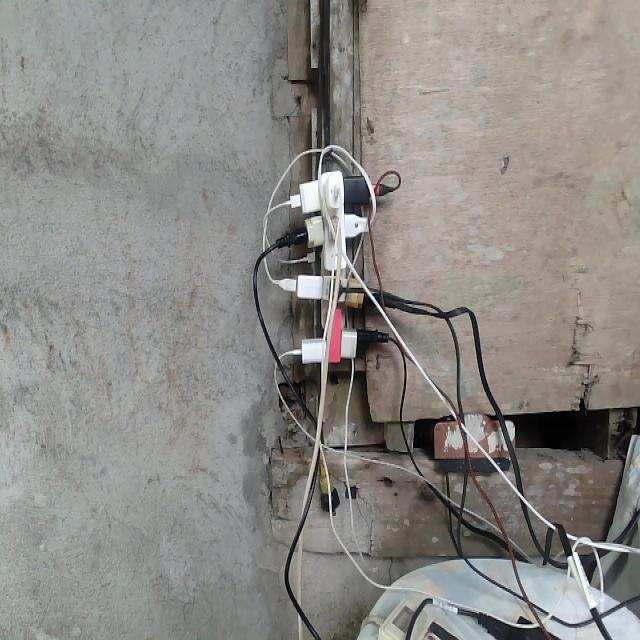-: (240, 128, 422, 377)
